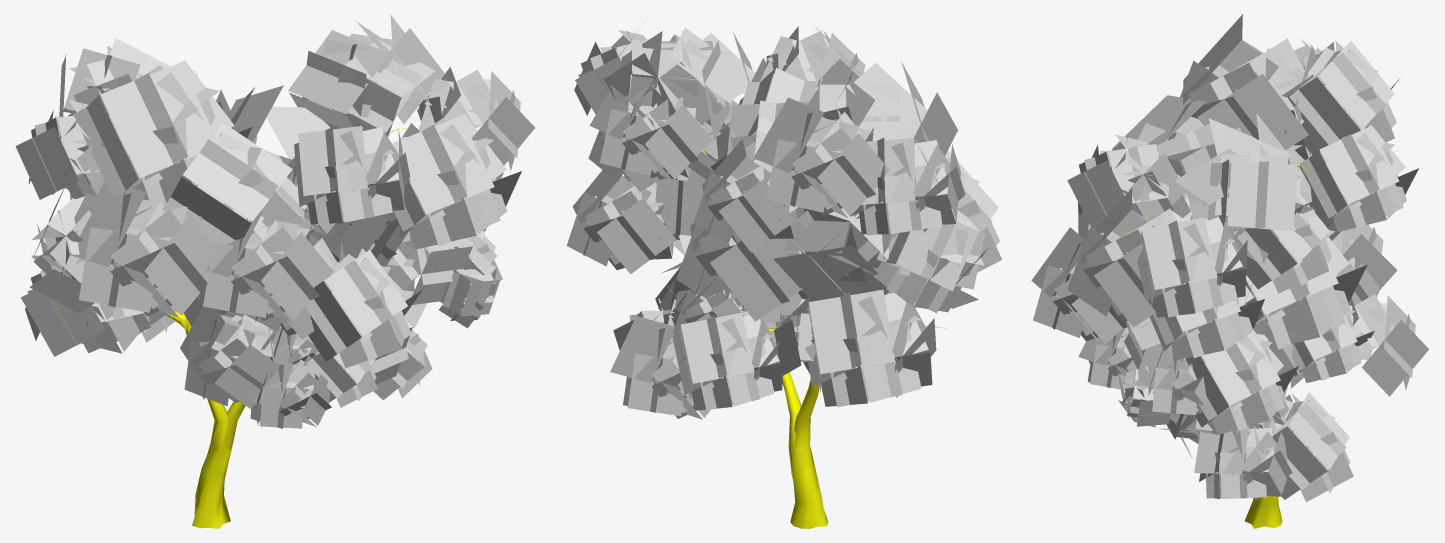
File: Foliage_Trees_Tree_1_Tree1_High.glb
3 renders of one model, left to right at view 1: azimuth 30°, elevation 25°; view 2: azimuth 150°, elevation 25°; view 3: azimuth 270°, elevation 25°, orthographic. The views are drawn at different scales.
Visible parts, largest first — view 1: tree.002; view 2: tree.002; view 3: tree.002.
Part boxes in pixels (left/top/right/bottom): tree.002: left=15, top=15, right=535, bottom=528; tree.002: left=566, top=25, right=1002, bottom=528; tree.002: left=1031, top=14, right=1429, bottom=528.
Bounding box in the file's own units: 7.04 × 7.05 × 5.49.
Materials: 2 (1 with a texture image).
